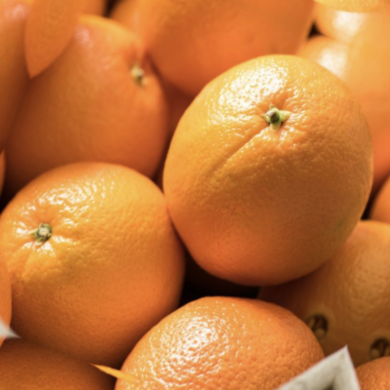orange: (118, 1, 390, 328), (0, 105, 234, 389)
